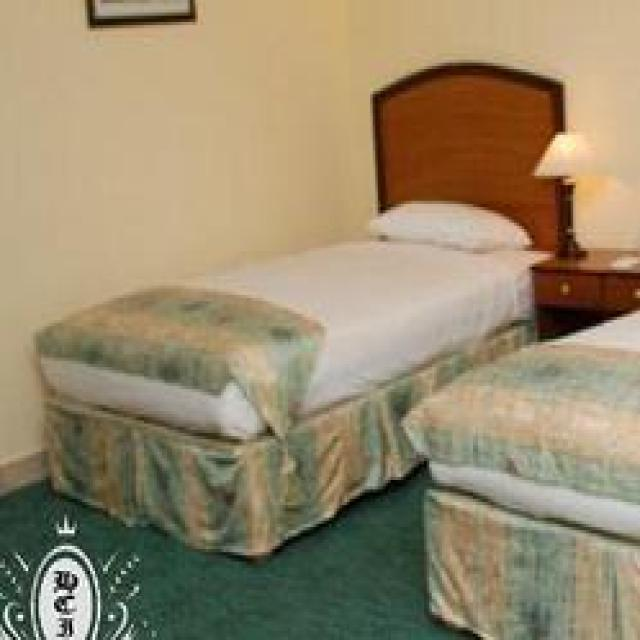bed: (31, 59, 565, 562)
